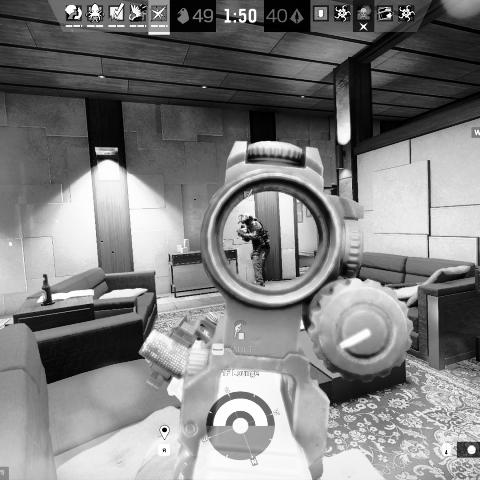Character: (235, 212, 272, 291)
Friend_label: (233, 188, 264, 212)
Head: (237, 212, 252, 226)
